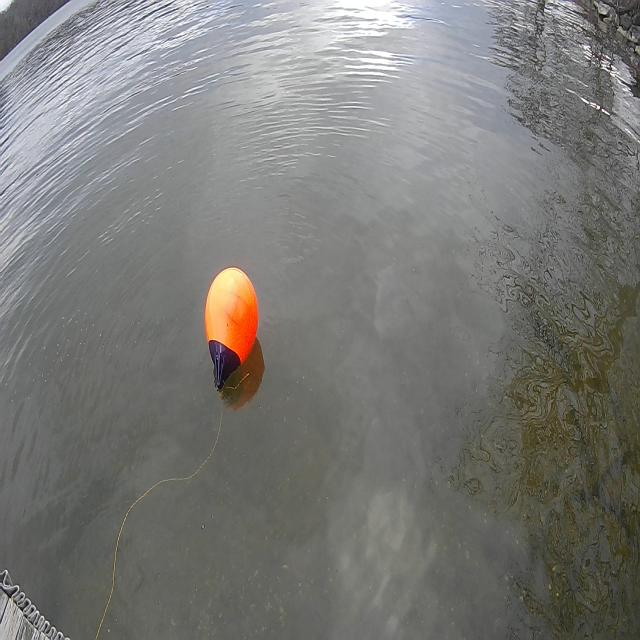Buoy: (202, 262, 262, 367)
